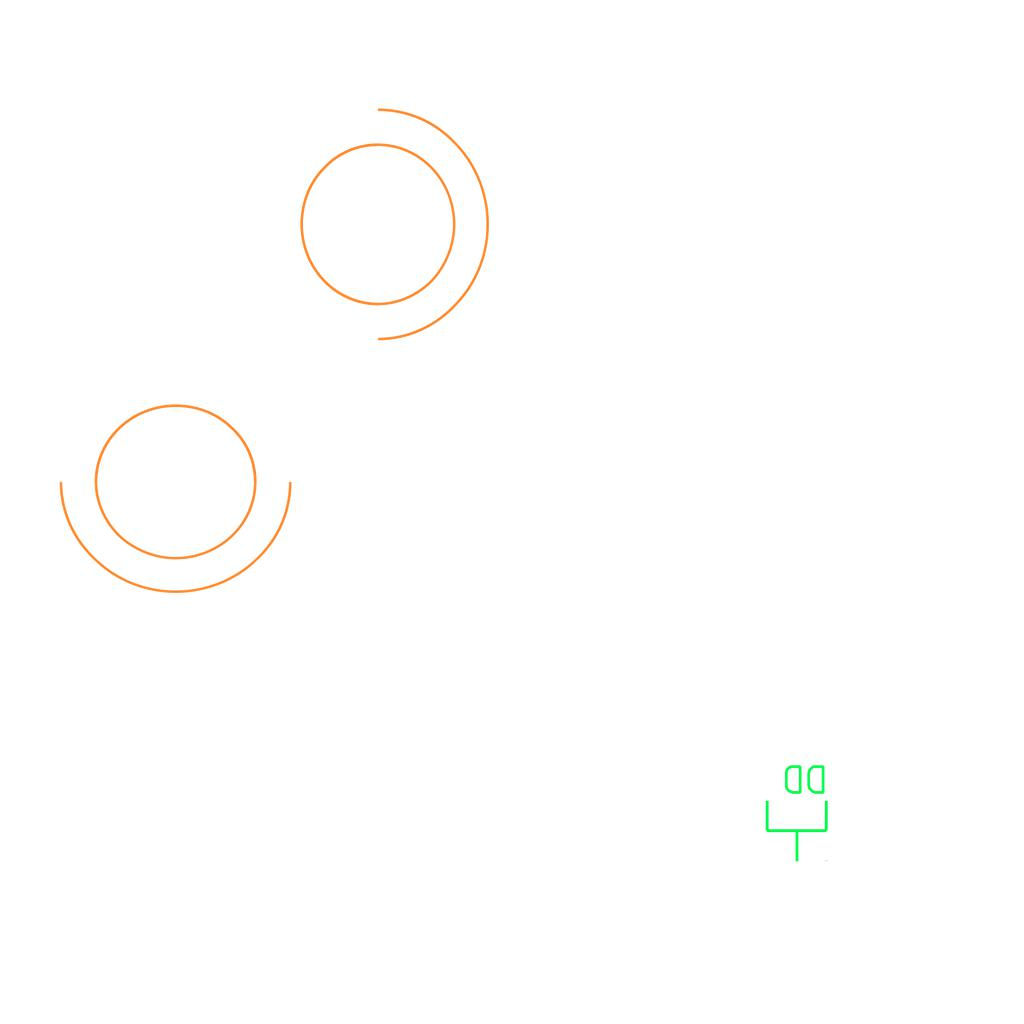Datenanschluss_zweifach: (763, 761, 832, 864)
Scheinwerfer_fuer_Alarmbeleuchtung: (50, 379, 314, 604), (275, 86, 500, 350)
